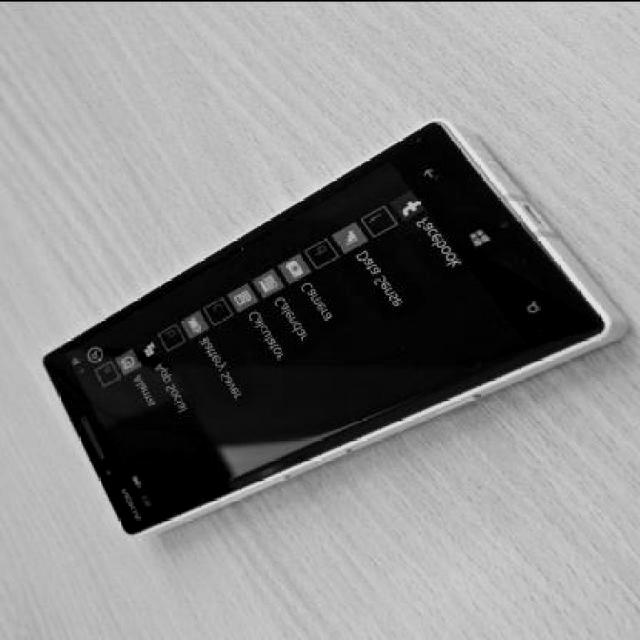fake: (44, 116, 640, 543)
